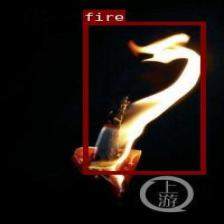fire: (82, 21, 205, 174)
